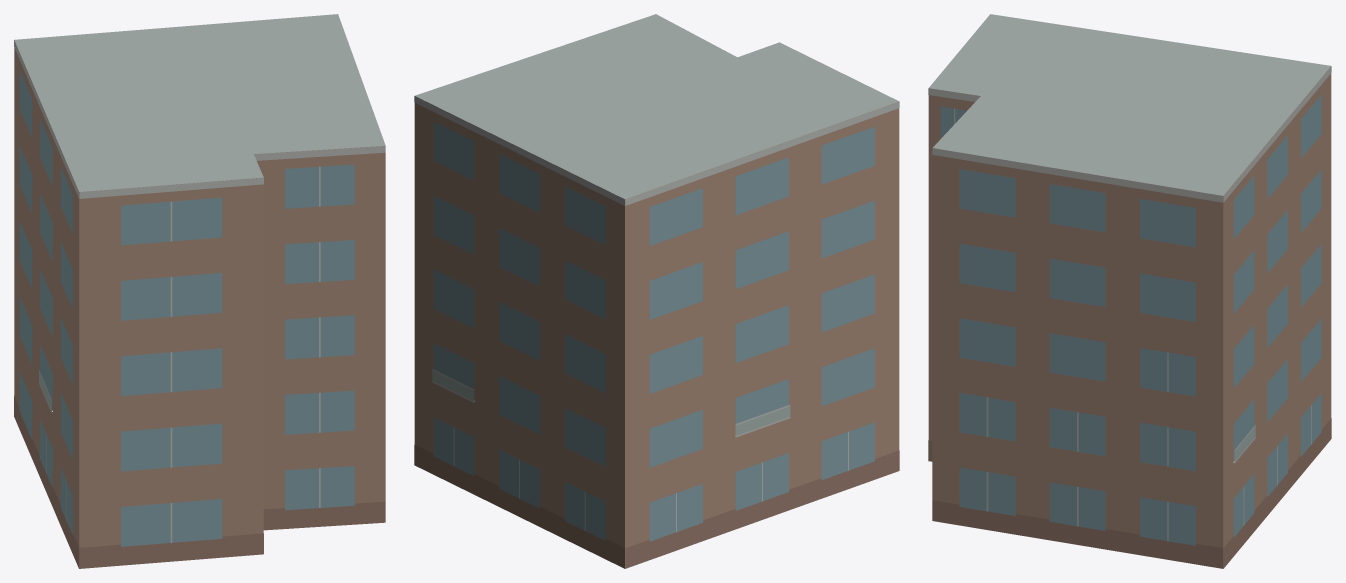
File: survey-upis-32890148.glb
The picture shows the model from 3 angles, left to right: view 1: azimuth 30°, elevation 25°; view 2: azimuth 150°, elevation 25°; view 3: azimuth 270°, elevation 25°; orthographic projection.
Visible parts, largest first — view 1: survey-upis-32890148.tmp; view 2: survey-upis-32890148.tmp; view 3: survey-upis-32890148.tmp.
Part boxes in pixels (left/top/right/bottom): survey-upis-32890148.tmp: left=14, top=14, right=385, bottom=568; survey-upis-32890148.tmp: left=414, top=14, right=899, bottom=568; survey-upis-32890148.tmp: left=928, top=14, right=1331, bottom=568.
Size of the model in its own units: 14.03 by 13.4 by 13.13.
